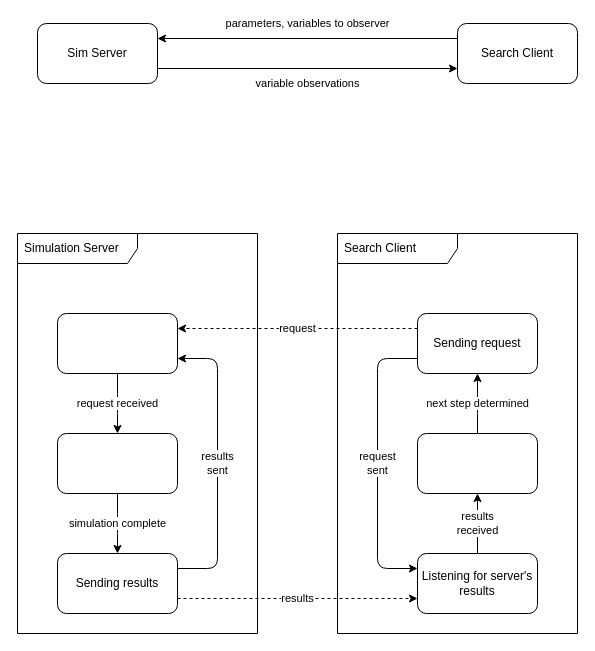
The diagram is 595 pixels wide and 651 high, and some of its shapes have lost their labels. Each missing label, with the centre of its shape:
"Determining next exploration step" goes at (x=477, y=463).
"Listening for client request" goes at (x=117, y=343).
"Running simulation" goes at (x=117, y=463).
